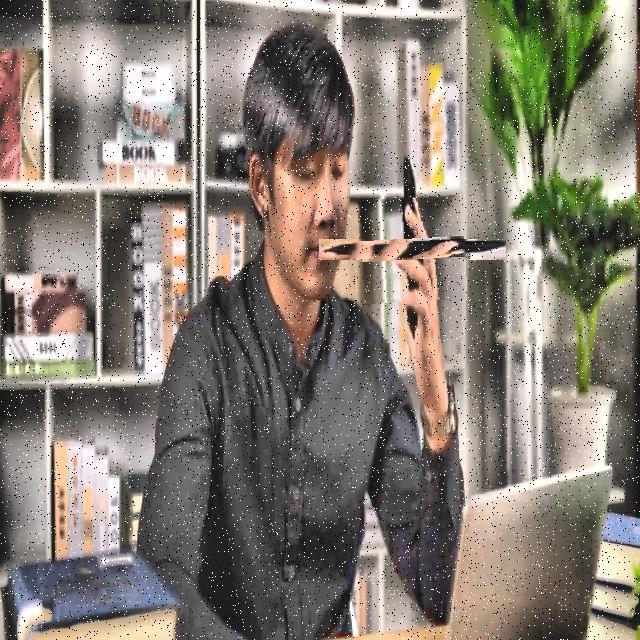Phone: (359, 196, 466, 304)
